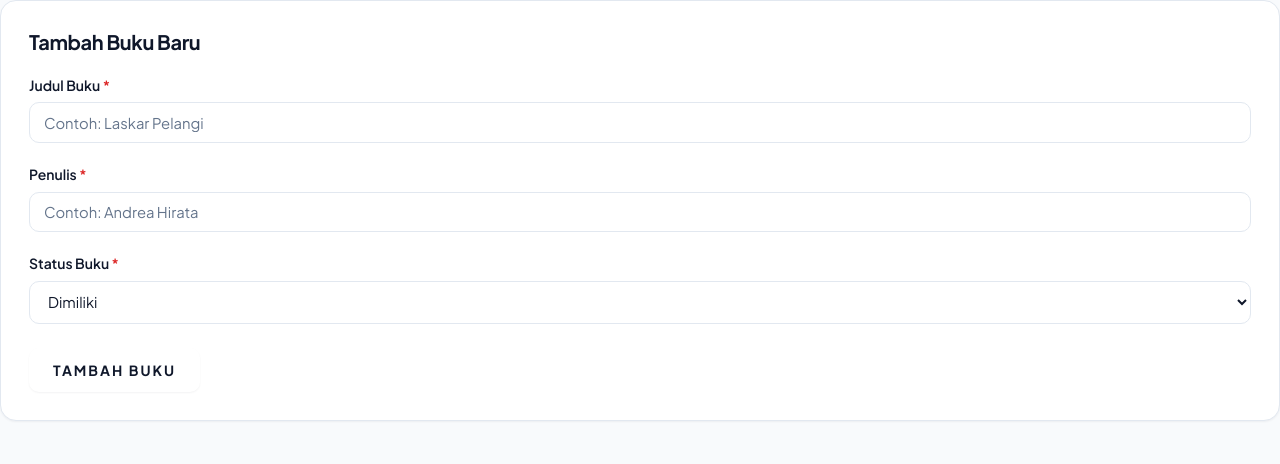
Komponen BookForm › menolak submit dan menampilkan pesan error ketika penulis kosong
// Isi judul tetapi biarkan penulis kosong
Type "Laskar Pelangi" into the field labelled "Judul Buku *" at (640, 123), box [29,102,1251,143]
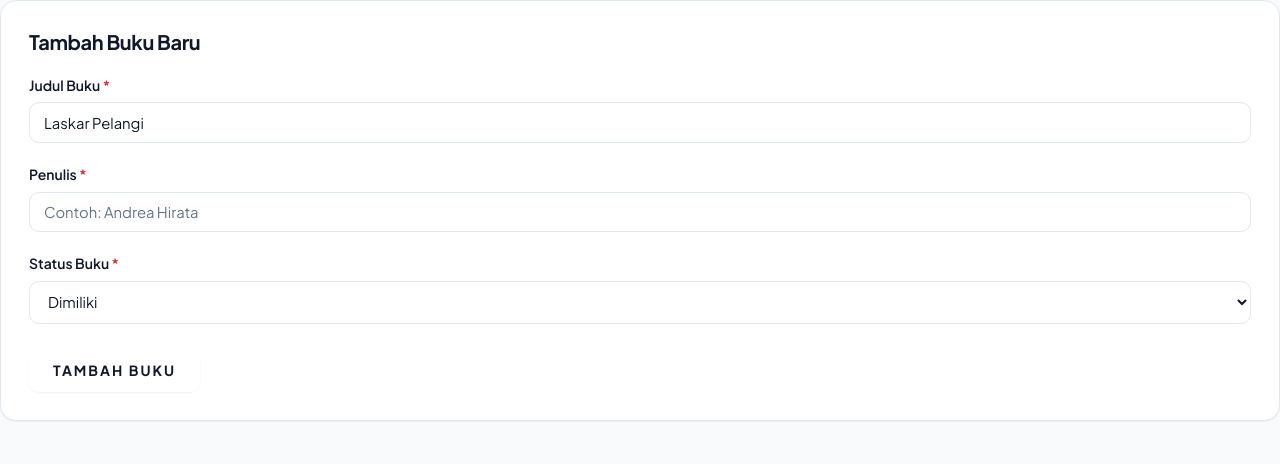
Click the button "Tambah Buku" at (114, 370), box [29,348,200,392]
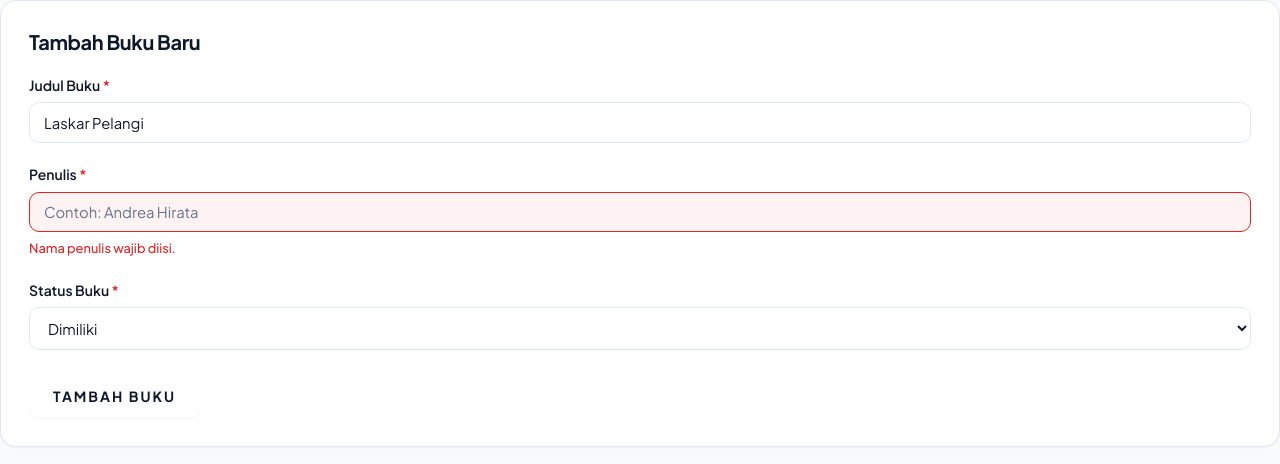
Result: the text "Nama penulis wajib diisi." is shown at [29,240,176,256]
